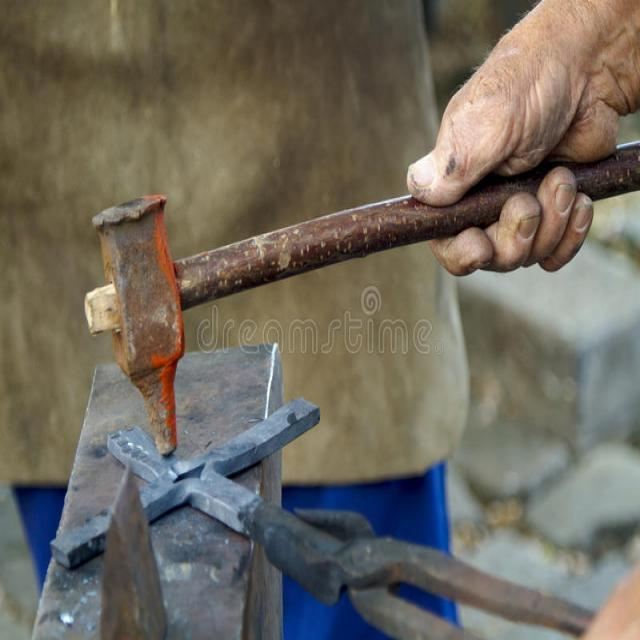hammer: (79, 132, 640, 461)
